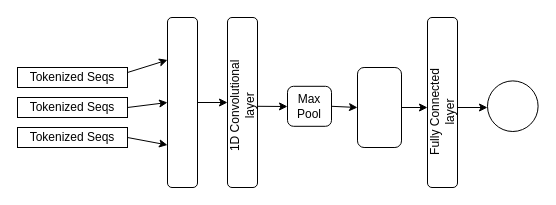
This 556x205 diagram has some shape labels left out. Each missing label, with the centre of its shape:
"Embedding Layer" belongs at [182,102].
"LSTM" belongs at [379,107].
"Sigmoid" belongs at [512,106].
